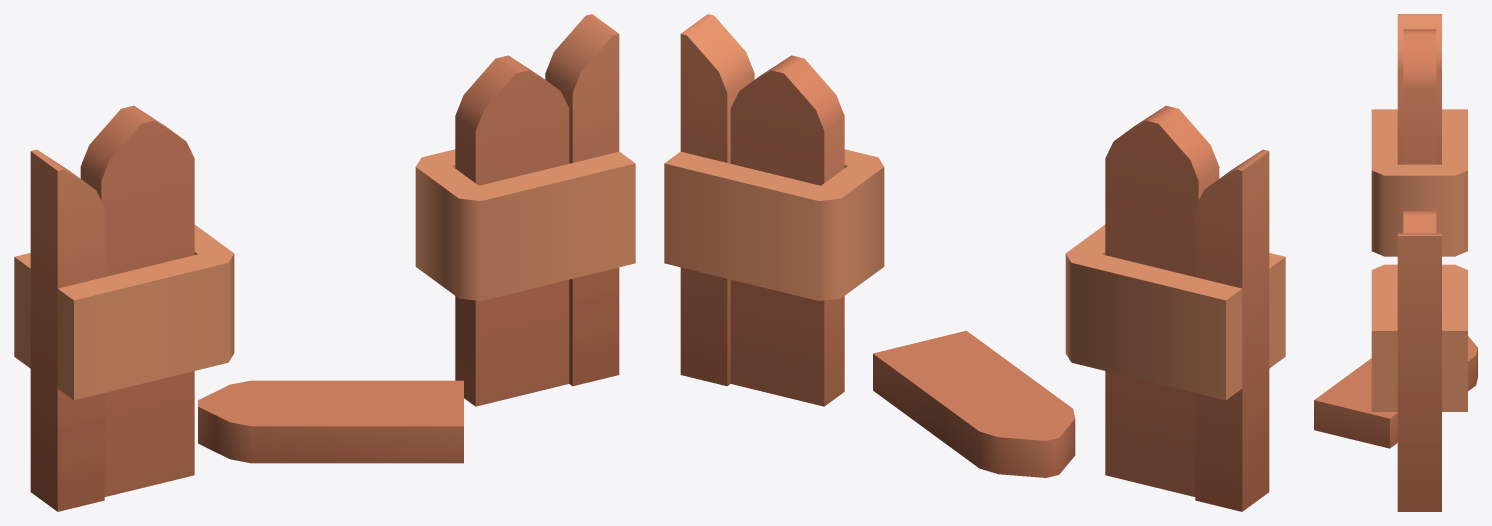
File: kenney-grave-fence-damaged.glb
3 renders of one model, left to right at view 1: azimuth 30°, elevation 25°; view 2: azimuth 150°, elevation 25°; view 3: azimuth 270°, elevation 25°, orthographic. The views are drawn at different scales.
Visible parts, largest first — view 1: fence-damaged; view 2: fence-damaged; view 3: fence-damaged.
Part boxes in pixels (x1=…): fence-damaged: x1=14, y1=14, x2=635, y2=511; fence-damaged: x1=664, y1=14, x2=1285, y2=511; fence-damaged: x1=1314, y1=14, x2=1477, y2=511.
Size of the model in its own units: 1 by 0.6201 by 0.3121.
Materials: 1 (1 with a texture image).
